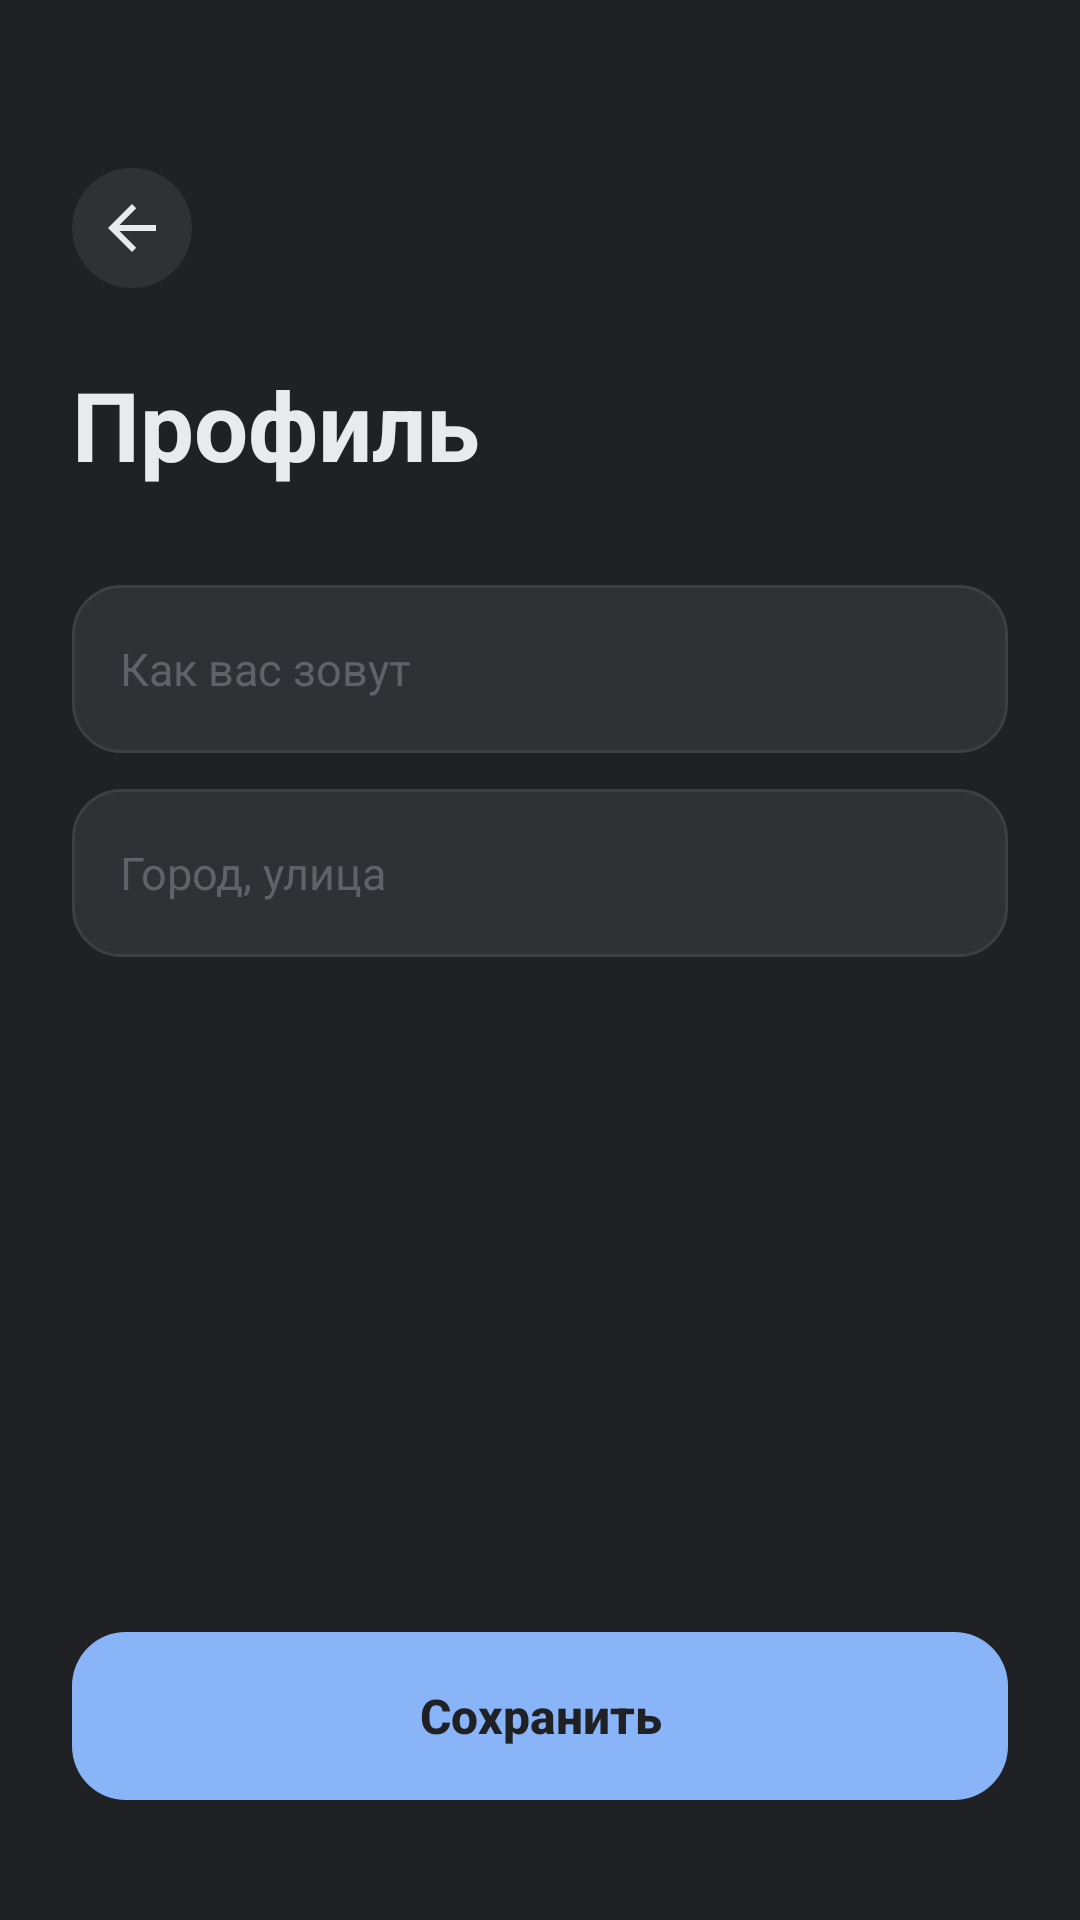

Where icons sit on this 1080px x 1920px app screen, as (x1, y1, x2, y2):
Назад: (72, 168, 192, 288)
